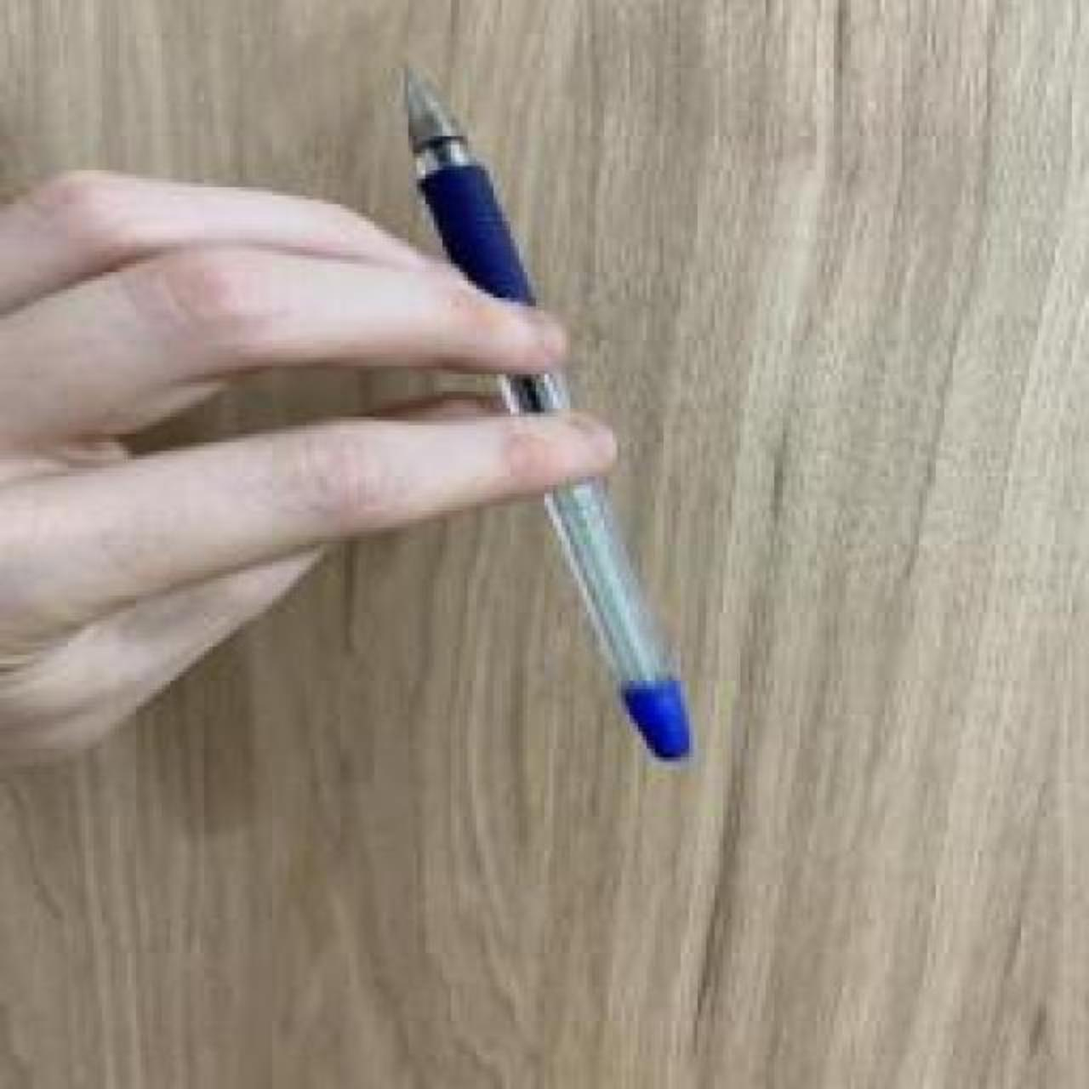pen: (396, 60, 703, 766)
